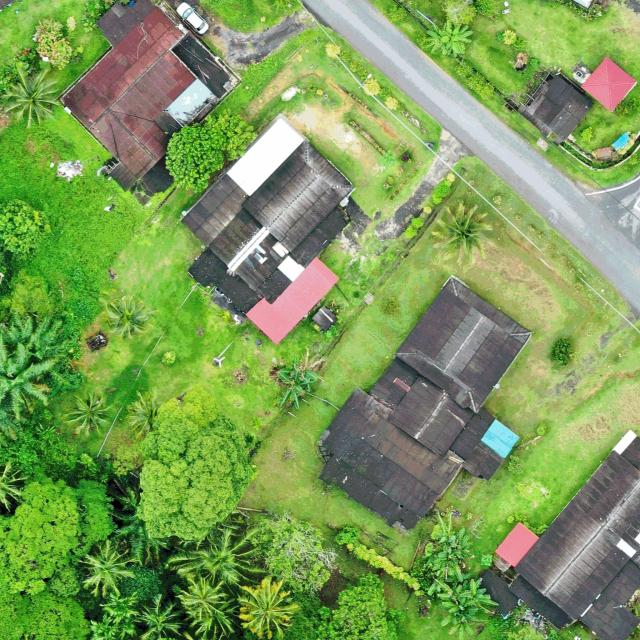Tree: (136, 382, 258, 546), (163, 109, 259, 194), (252, 509, 346, 595), (0, 332, 58, 420), (194, 526, 264, 592), (0, 61, 64, 127), (236, 576, 300, 640), (430, 201, 494, 264), (171, 572, 232, 638), (434, 580, 500, 640), (81, 538, 137, 600), (432, 510, 474, 582), (0, 197, 50, 257), (100, 294, 158, 339), (62, 390, 116, 438), (275, 354, 318, 411), (135, 594, 186, 640), (126, 391, 175, 437), (423, 22, 458, 58), (439, 21, 473, 52), (442, 0, 478, 25), (549, 337, 574, 366)
